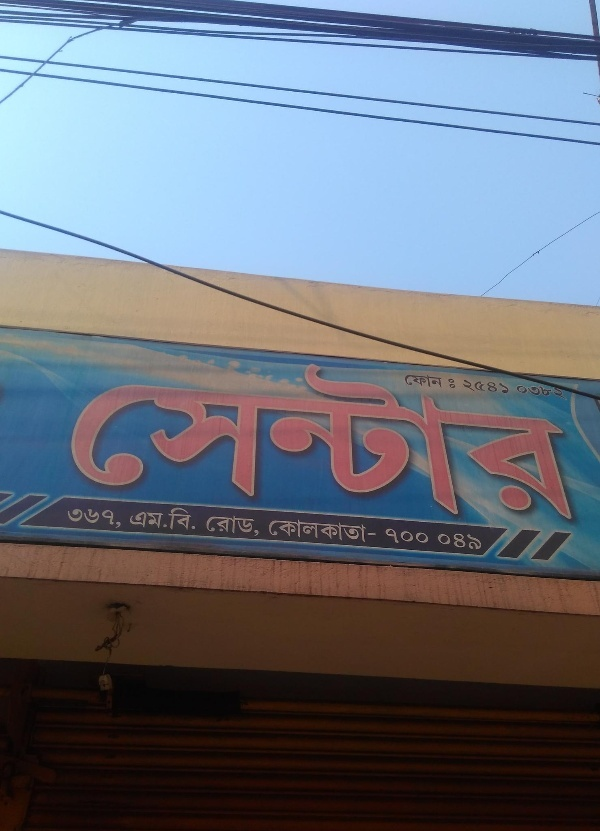text: (97, 359, 112, 524), (113, 359, 128, 524), (129, 359, 144, 524), (145, 359, 160, 524), (161, 359, 176, 524), (177, 359, 192, 524), (193, 359, 208, 524), (209, 359, 224, 524), (225, 359, 240, 524), (241, 359, 256, 524), (257, 359, 272, 524), (273, 359, 288, 524), (289, 359, 304, 524), (305, 359, 320, 524), (321, 359, 336, 524), (337, 359, 352, 524), (353, 359, 368, 524), (369, 359, 384, 524), (385, 359, 400, 524), (401, 359, 416, 524), (417, 359, 432, 524), (433, 359, 448, 524), (449, 359, 464, 524), (465, 359, 480, 524), (481, 359, 496, 524), (497, 359, 512, 524), (513, 359, 528, 524), (529, 359, 544, 524), (545, 359, 560, 524), (561, 359, 576, 524), (89, 359, 96, 524), (273, 518, 288, 544), (289, 518, 304, 544), (305, 518, 320, 544), (321, 518, 336, 544), (337, 518, 352, 544), (353, 518, 368, 544), (145, 507, 160, 532), (161, 507, 176, 532), (177, 507, 192, 532), (209, 513, 224, 537), (225, 513, 240, 537), (241, 513, 256, 537), (385, 528, 400, 551), (401, 528, 416, 551), (417, 528, 432, 551), (433, 528, 448, 551), (449, 528, 464, 551), (465, 528, 480, 551), (577, 359, 579, 524), (81, 507, 96, 529), (97, 507, 112, 529), (131, 507, 144, 532), (68, 507, 80, 529), (465, 379, 480, 394), (481, 379, 496, 394), (417, 374, 432, 388), (369, 518, 377, 544), (113, 507, 122, 529), (497, 379, 510, 394), (529, 386, 544, 399), (545, 386, 560, 399), (406, 374, 416, 388), (518, 386, 528, 399), (433, 374, 442, 388), (257, 513, 262, 537), (561, 386, 567, 399), (193, 507, 196, 532), (449, 379, 456, 389), (270, 518, 272, 544), (481, 528, 483, 551), (463, 379, 464, 394)
